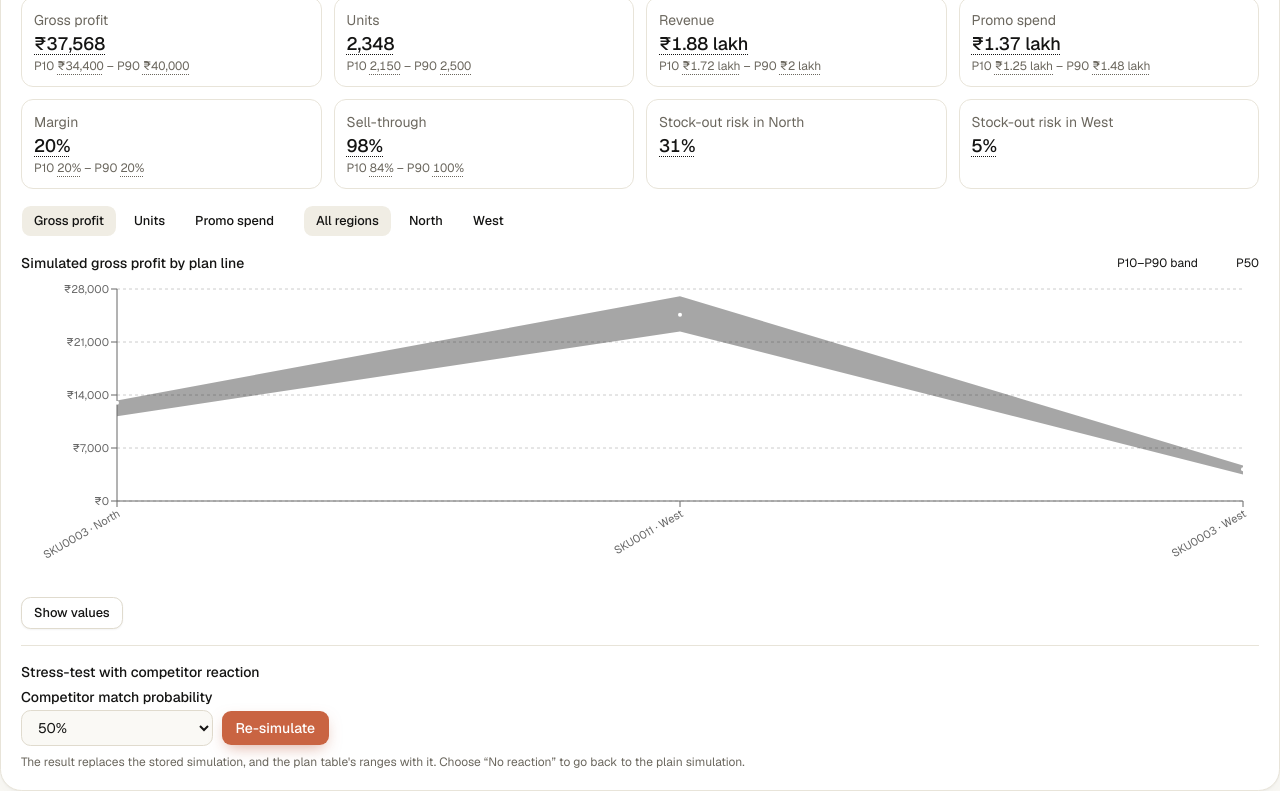
SimulationPanel › says why a re-simulation failed
(page scrolled)
What coordinates should you click on to do the following:
click the button "Re-simulate"
I would click on:
 (275, 728)
Its box is [220, 710, 330, 746].
(page scrolled)
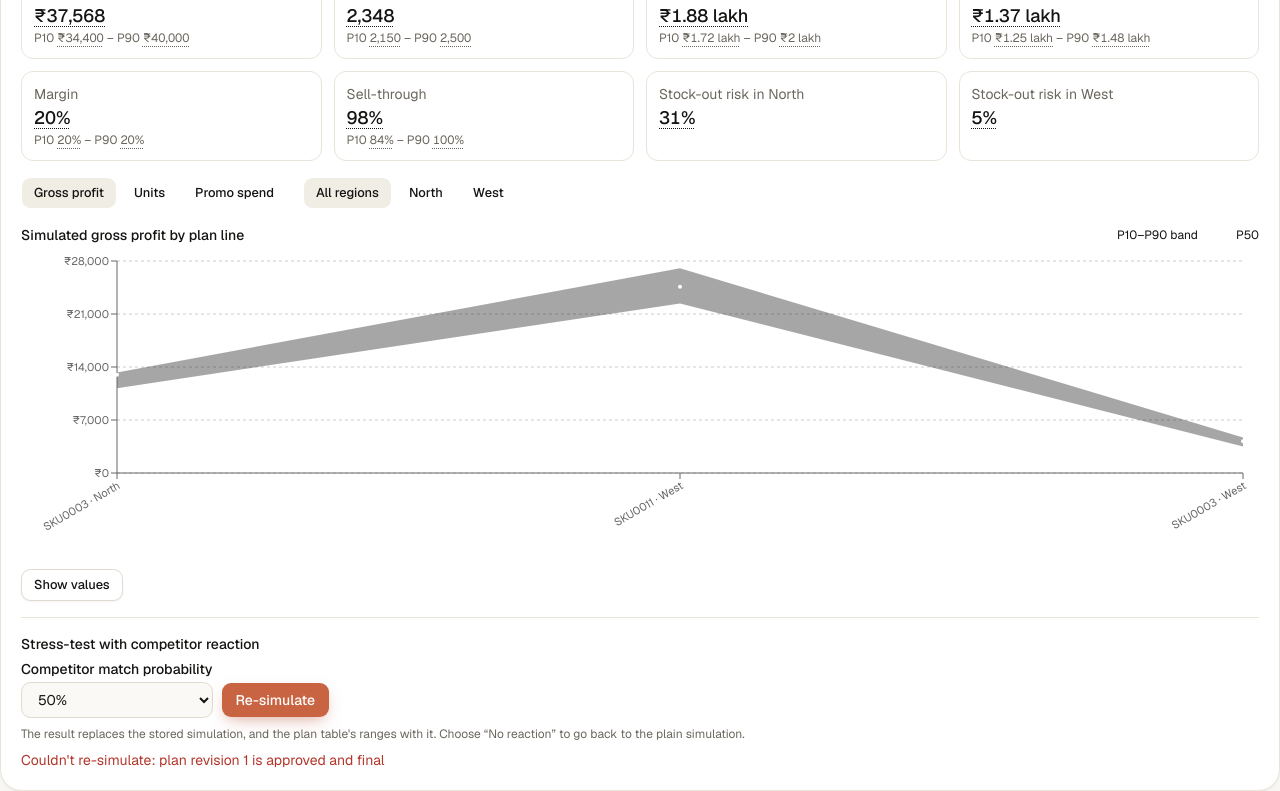
Expected: the message reads "Couldn't re-simulate: plan revision 1 is approved and final", [21, 751, 384, 769]
